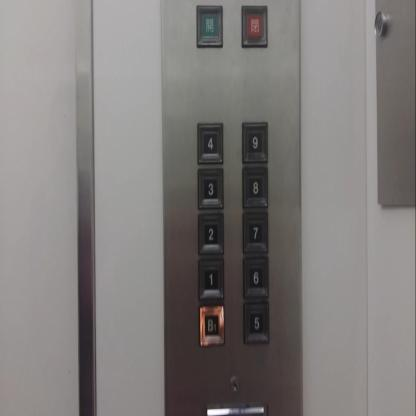1: (196, 256, 226, 300)
2: (196, 210, 225, 254)
3: (196, 166, 225, 210)
4: (195, 120, 225, 164)
5: (241, 300, 271, 346)
6: (241, 254, 270, 300)
7: (240, 210, 270, 254)
8: (239, 165, 269, 210)
9: (240, 119, 269, 164)
B1: (196, 302, 226, 347)
text_close door: (240, 2, 269, 46)
text_open door: (194, 3, 225, 50)
